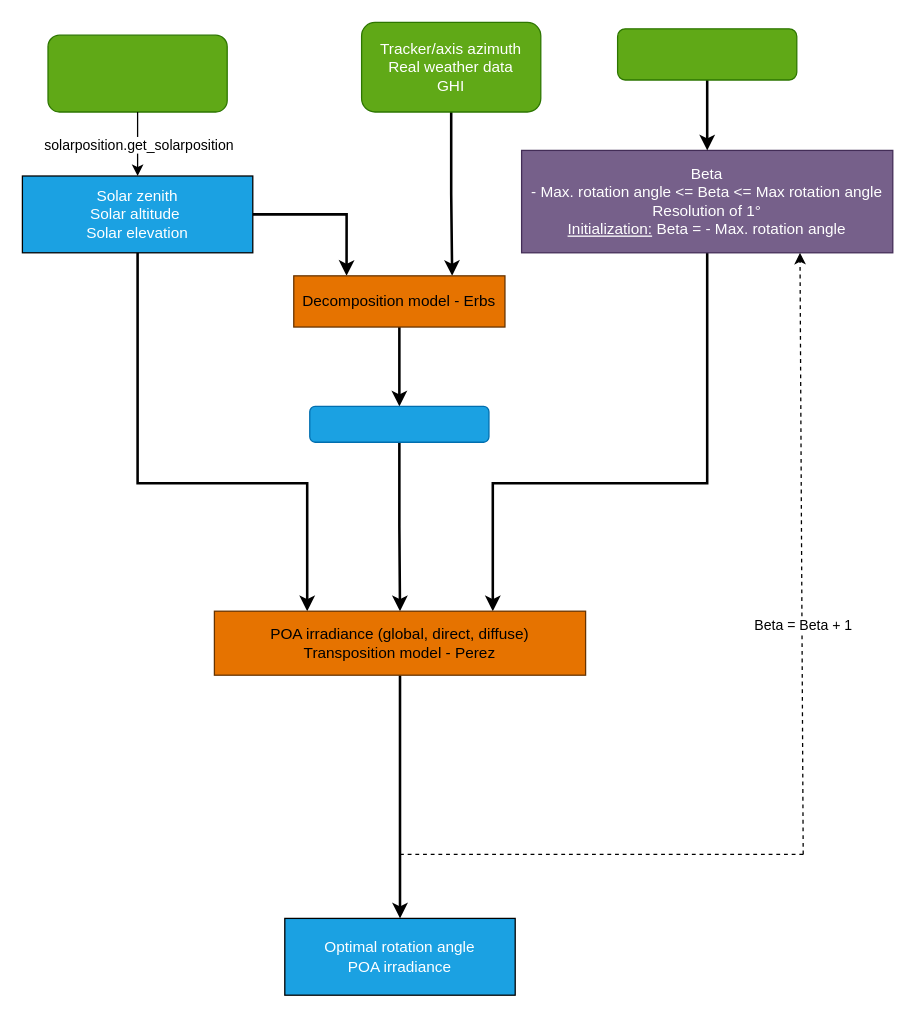
Some shapes in this 915 by 1018 pixel diagram are drawn without their labels. Each missing label, with the box of its shape:
DHI, DNI: (308, 405, 489, 442)
Maximum rotation angle: (616, 28, 797, 80)
Timeseries Latitude, Longitude, Altitude: (47, 34, 227, 112)
